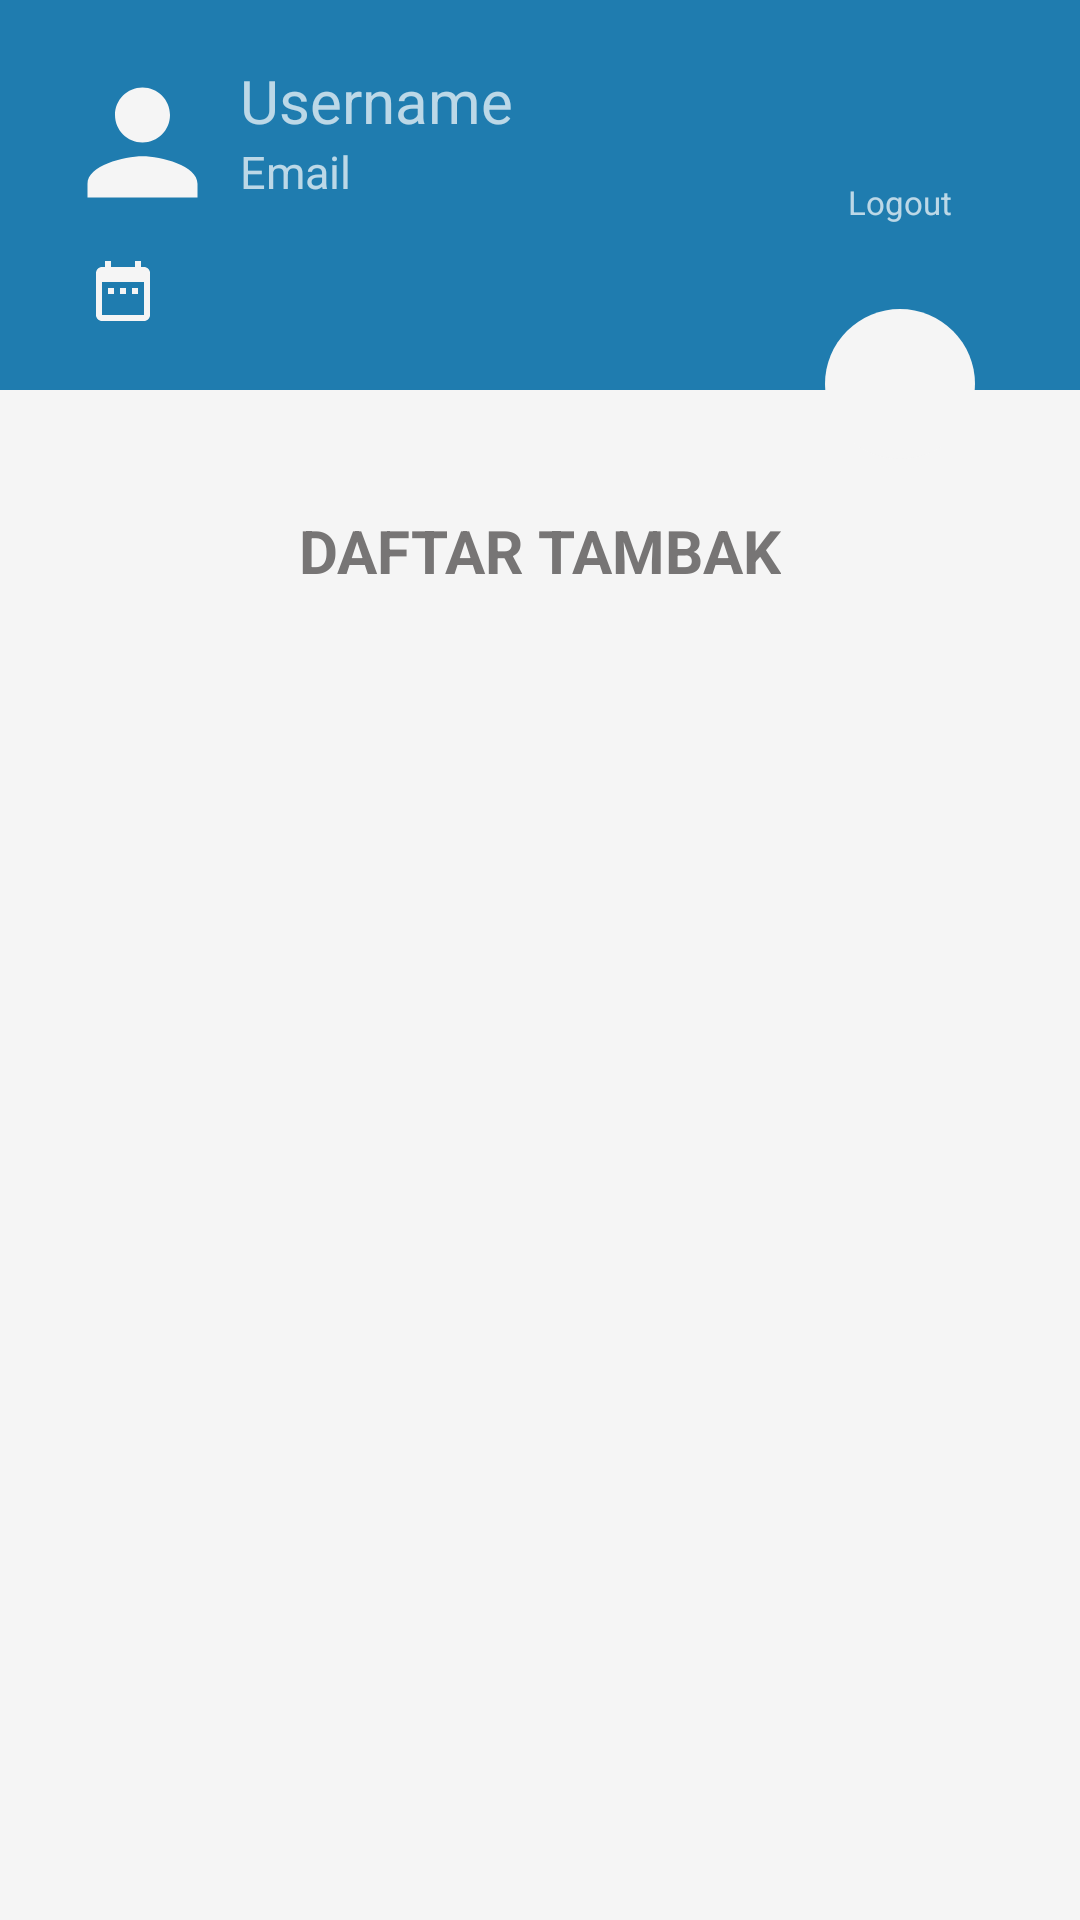

Where icons sit on this 1080x1920 app screen, as (x1, y1, x2, y2):
date range: (96, 261, 150, 321)
person: (87, 87, 198, 198)
